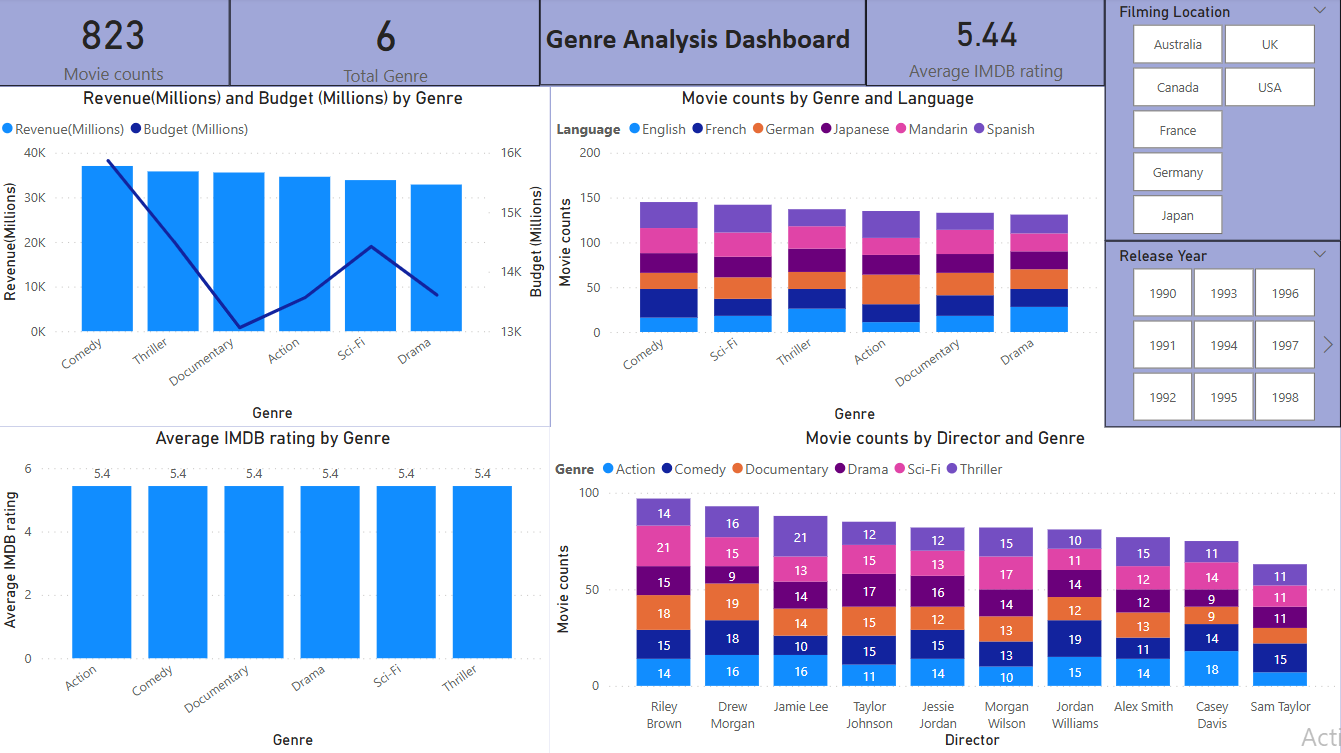

The page's visual inventory and layout, read from the dashboard file:
{"tool":"powerbi","page":{"name":"Genre Analysis","canvas":[1280,720],"ordinal":2},"visuals":[{"type":"lineClusteredColumnComboChart","fields":{"Category":["merged sheet.Genre"],"Y2":["merged sheet.Budget (Millions)"],"Y":["merged sheet.Sheet1 (2).Worldwide Gross (Millions)"]},"box":[0,85.6,527,323.2],"z":0},{"type":"columnChart","fields":{"Category":["merged sheet.Director"],"Series":["merged sheet.Genre"],"Y":["merged sheet.Movie counts"]},"box":[527.2,409.2,753.1,311.2],"z":1000},{"type":"clusteredColumnChart","fields":{"Category":["merged sheet.Genre"],"Y":["merged sheet.Average IMDB rating"]},"box":[0,408.8,527,311.2],"z":2000},{"type":"columnChart","fields":{"Series":["merged sheet.Language"],"Category":["merged sheet.Genre"],"Y":["merged sheet.Movie counts"]},"box":[528.6,85.3,527.2,324],"z":3000},{"type":"slicer","fields":{"Values":["merged sheet.Filming Location"]},"box":[1055.8,0,224.5,231.6],"z":4000},{"type":"slicer","fields":{"Values":["merged sheet.Release Year"]},"box":[1055.8,231.6,224.5,177.6],"z":5000},{"type":"card","fields":{"Values":["merged sheet.Movie counts"]},"box":[0,0,222.3,85.1],"z":7000},{"type":"textbox","box":[517.7,0,310.1,83.8],"z":8000},{"type":"card","fields":{"Values":["merged sheet.Average IMDB rating"]},"box":[827.8,0,227.6,85.2],"z":9000},{"type":"card","fields":{"Values":["merged sheet.Genre"]},"box":[222.3,0,295.4,85.2],"z":10000}]}

Visuals, with their boxes in screenshot pixels (x1, y1, x2, y2), scaled from the page's 1280x720 canvas onto the 1341x753 screenshot:
lineClusteredColumnComboChart - merged sheet.Genre x merged sheet.Budget (Millions): locate(0, 90, 552, 428)
columnChart - merged sheet.Director x merged sheet.Genre: locate(552, 428, 1340, 752)
clusteredColumnChart - merged sheet.Genre x merged sheet.Average IMDB rating: locate(0, 428, 552, 752)
columnChart - merged sheet.Language x merged sheet.Genre: locate(554, 89, 1106, 428)
slicer - merged sheet.Filming Location: locate(1106, 0, 1340, 242)
slicer - merged sheet.Release Year: locate(1106, 242, 1340, 428)
card - merged sheet.Movie counts: locate(0, 0, 233, 89)
textbox: locate(542, 0, 867, 88)
card - merged sheet.Average IMDB rating: locate(867, 0, 1106, 89)
card - merged sheet.Genre: locate(233, 0, 542, 89)
